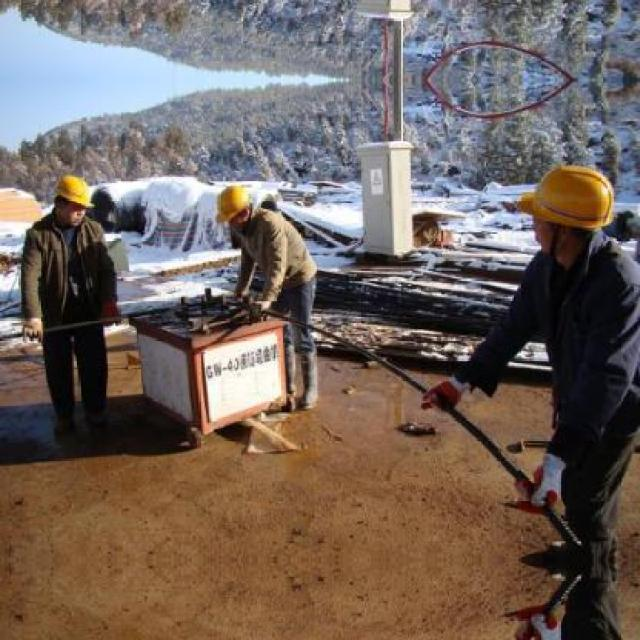helmet: (522, 155, 622, 254), (214, 179, 257, 230), (52, 173, 90, 227)
